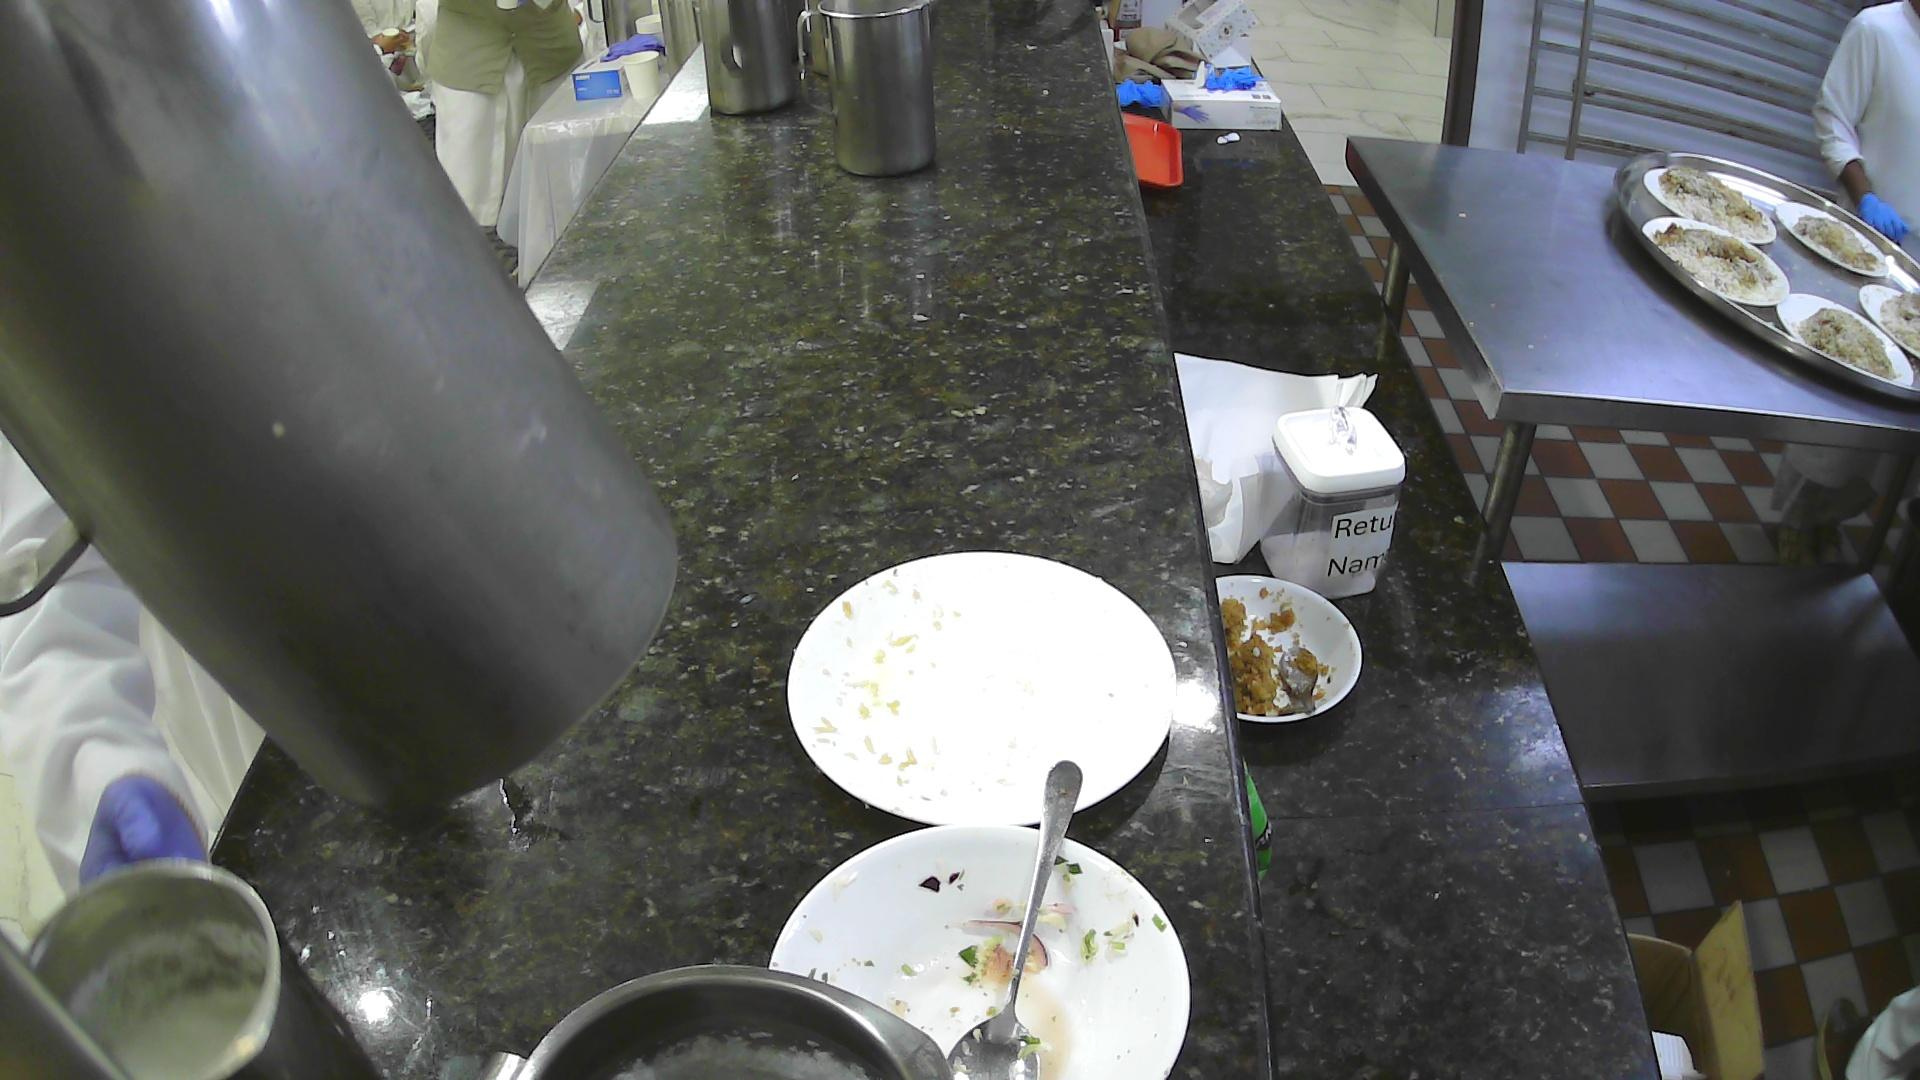thaal: (1610, 149, 1920, 409)
